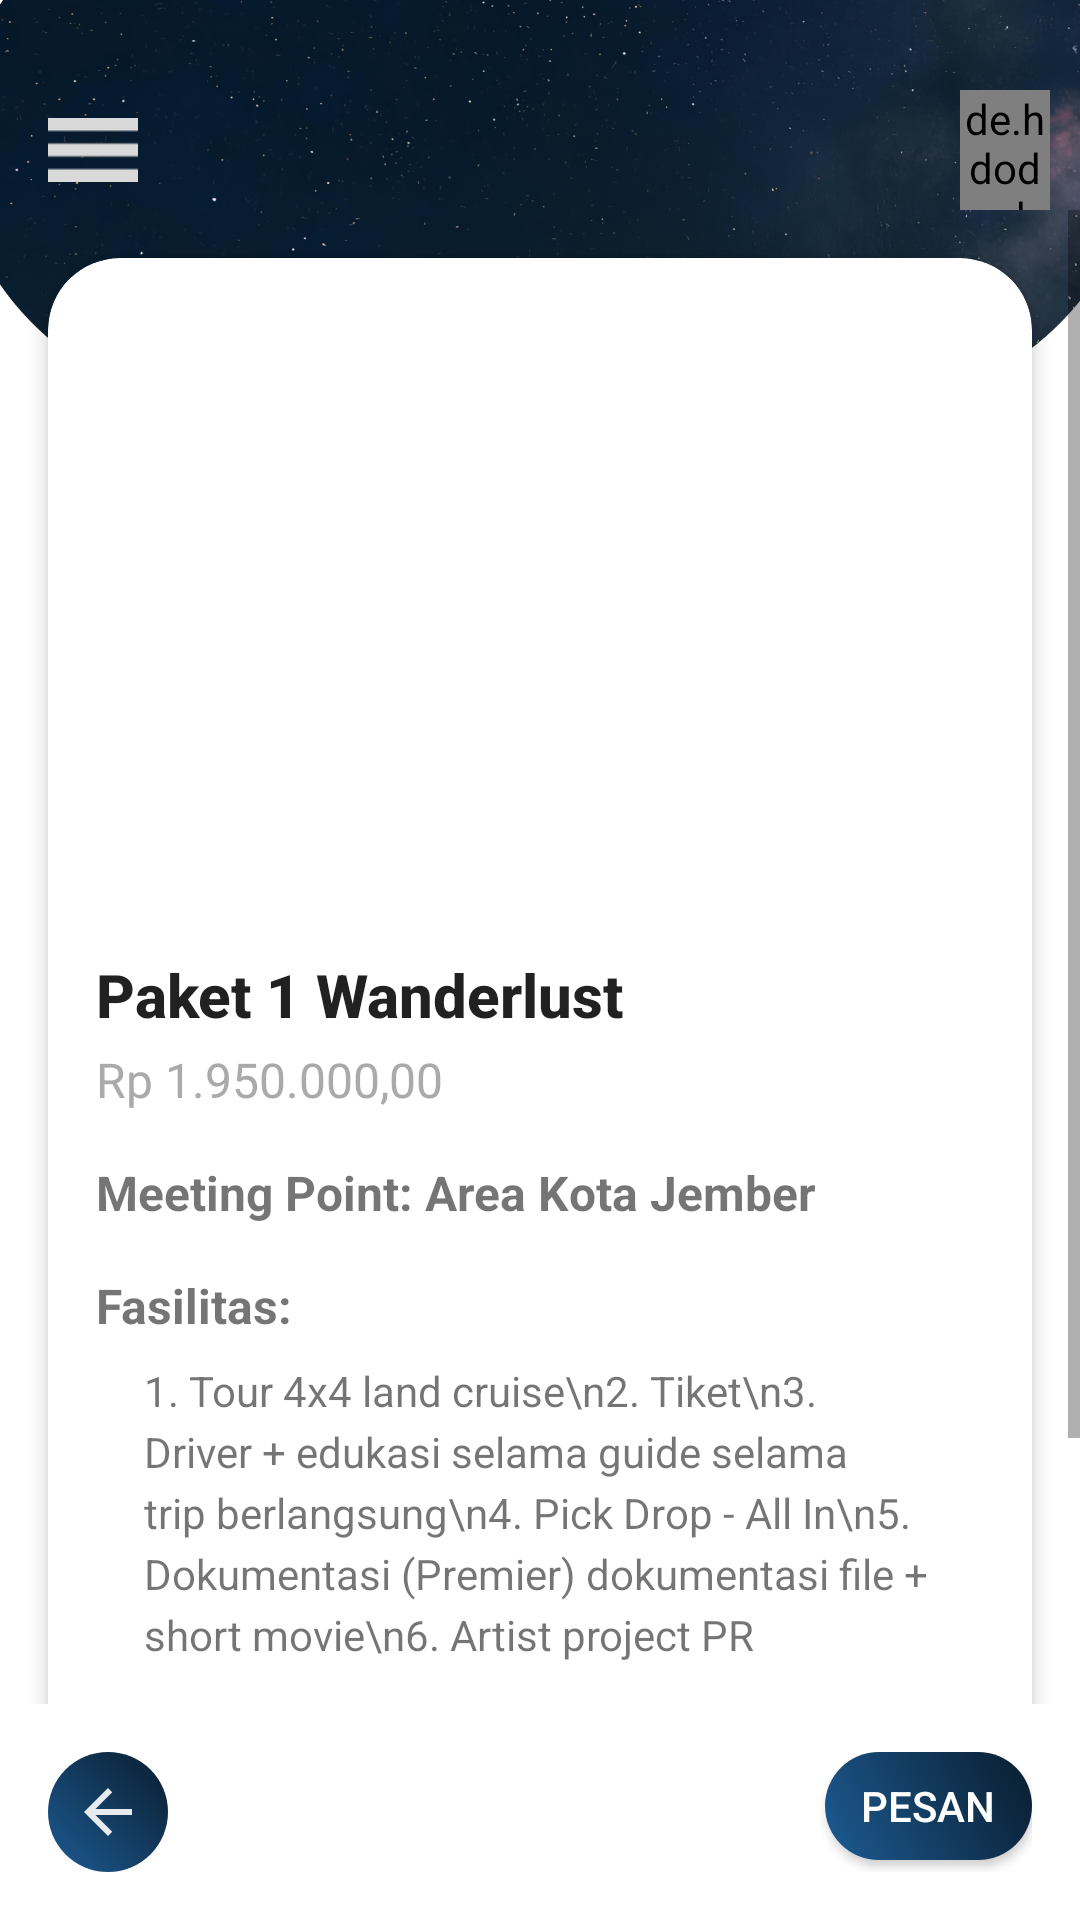

Icons on this 1080px x 1920px Android screen, each with the point to tap as [x,y]:
back: [108,1812]
